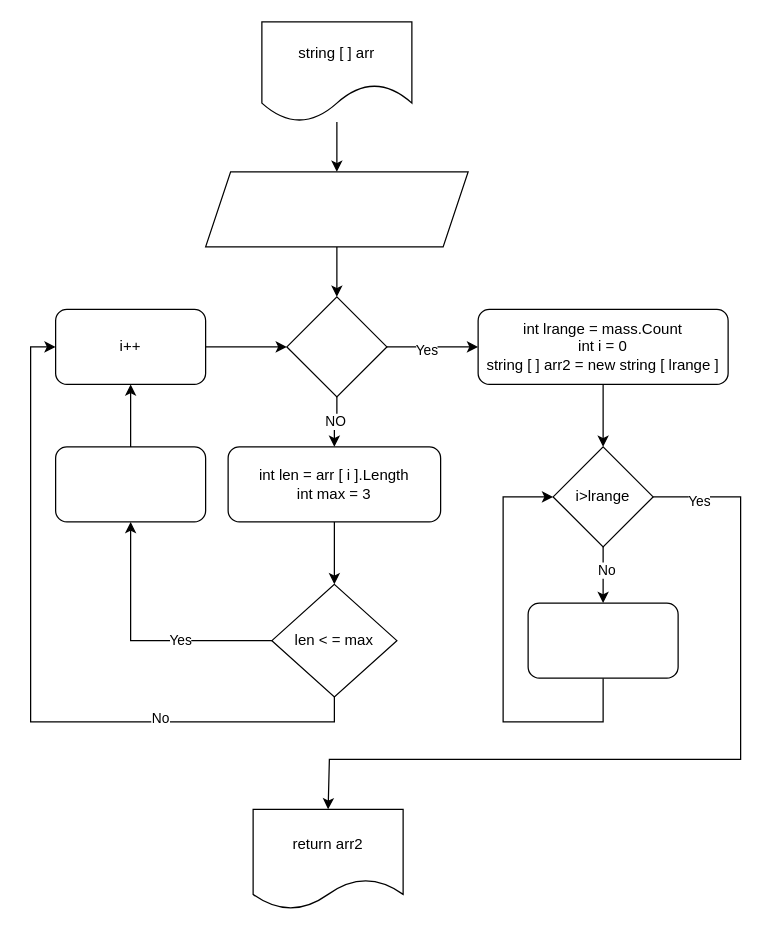
This 773x931 diagram has some shape labels left out. Here are the shapes that lost their labels. From the top down, the centre of each, then its label:
At (x=336, y=209): "int length = arr.length list<string> mass = new() int i = 0".
At (x=336, y=346): "i>length".
At (x=130, y=484): "mass.Add( arr [ i ] )".
At (x=602, y=640): "arr2 [ i ] = mass [ i ] i++".
